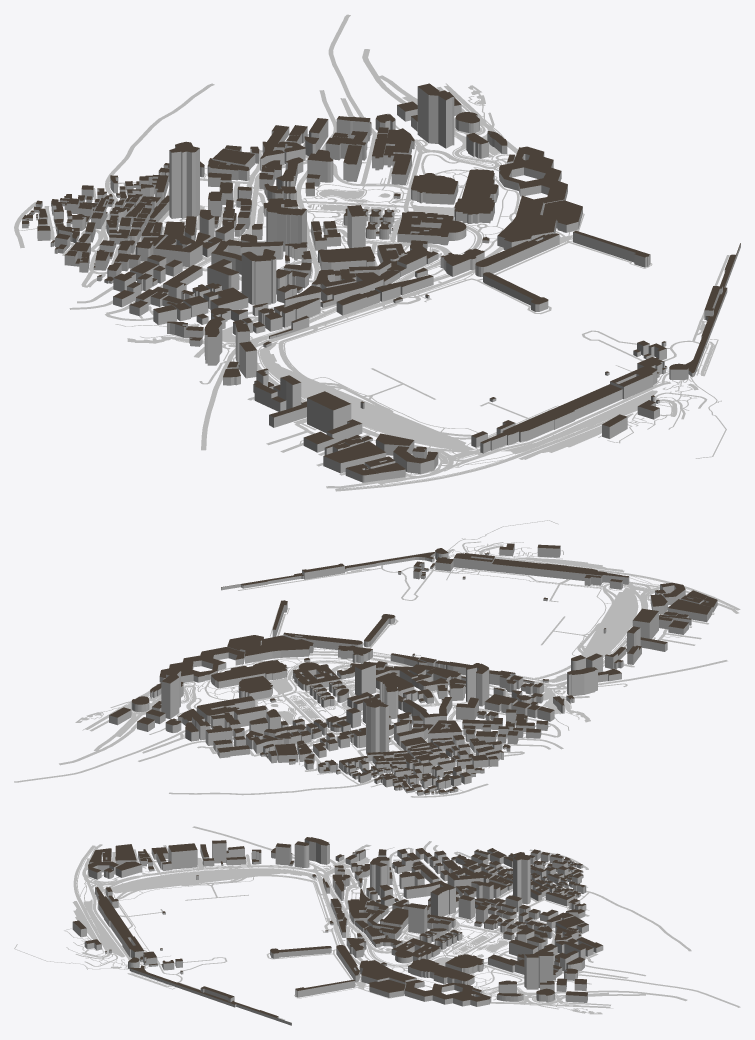
The model's file is monaco_google6.obj.
3 renders of one model, top to bottom at view 1: azimuth 30°, elevation 25°; view 2: azimuth 150°, elevation 25°; view 3: azimuth 270°, elevation 25°, orthographic. The views are drawn at different scales.
Visible parts, largest first — view 1: map_2.osm_buildings, map_2.osm_roads_residential, map_2.osm_paths_footway, map_2.osm_roads_secondary, map_2.osm_roads_service, map_2.osm_areas_pedestrian, map_2.osm_forest, map_2.osm_roads_primary, map_2.osm_roads_other, map_2.osm_roads_tertiary; view 2: map_2.osm_buildings, map_2.osm_roads_residential, map_2.osm_paths_footway, map_2.osm_roads_service, map_2.osm_areas_pedestrian, map_2.osm_roads_secondary, map_2.osm_roads_primary, map_2.osm_forest, map_2.osm_roads_tertiary, map_2.osm_roads_other; view 3: map_2.osm_buildings, map_2.osm_paths_footway, map_2.osm_roads_residential, map_2.osm_roads_secondary, map_2.osm_roads_service, map_2.osm_areas_pedestrian, map_2.osm_forest, map_2.osm_roads_primary, map_2.osm_roads_tertiary, map_2.osm_roads_other, map_2.osm_vegetation.
Part boxes in pixels (x1,y1,x2,y2): map_2.osm_buildings: (22,83,740,482); map_2.osm_roads_residential: (14,14,698,491); map_2.osm_paths_footway: (17,83,726,489); map_2.osm_roads_secondary: (106,128,517,488); map_2.osm_roads_service: (93,105,729,474); map_2.osm_areas_pedestrian: (204,206,572,450); map_2.osm_forest: (127,306,657,459); map_2.osm_roads_primary: (194,49,503,357); map_2.osm_roads_other: (301,137,486,457); map_2.osm_roads_tertiary: (105,85,486,320); map_2.osm_buildings: (109,543,717,795); map_2.osm_roads_residential: (14,545,740,797); map_2.osm_paths_footway: (82,520,737,791); map_2.osm_roads_service: (110,541,663,787); map_2.osm_areas_pedestrian: (269,587,638,702); map_2.osm_roads_secondary: (141,583,738,771); map_2.osm_roads_primary: (59,653,589,765); map_2.osm_forest: (495,557,624,726); map_2.osm_roads_tertiary: (85,689,560,761); map_2.osm_roads_other: (143,586,644,700); map_2.osm_buildings: (72,837,603,1025); map_2.osm_paths_footway: (14,846,628,1010); map_2.osm_roads_residential: (73,841,740,1007); map_2.osm_roads_secondary: (82,826,589,1004); map_2.osm_roads_service: (75,854,591,1020); map_2.osm_areas_pedestrian: (103,864,452,988); map_2.osm_forest: (72,844,401,957); map_2.osm_roads_primary: (330,859,687,1004); map_2.osm_roads_tertiary: (389,847,645,1007); map_2.osm_roads_other: (98,866,527,1003); map_2.osm_vegetation: (378,928,507,952).
Bounding box in the file's own units: 17219 × 1776 × 26510.
